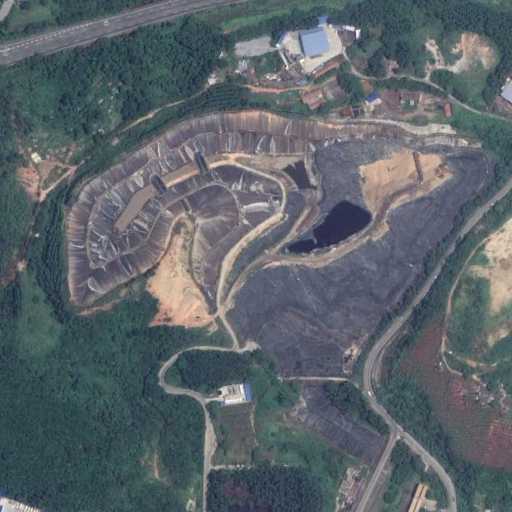lf: (69, 109, 495, 369)
